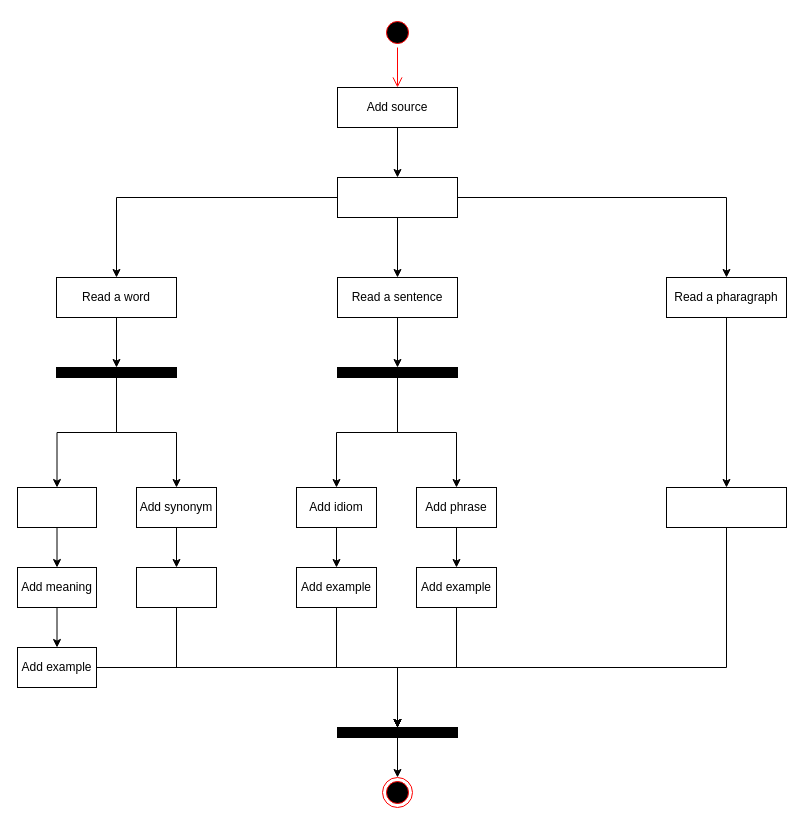
This 804x825 diagram has some shape labels left out. The shapes that lost their labels are listed below. From the top down, each one's centre as x and y in pixels, then its label:
At [397,197]: "Read souce".
At [56,507]: "Add word".
At [726,507]: "Add translate/note".
At [176,587]: "Add note".
